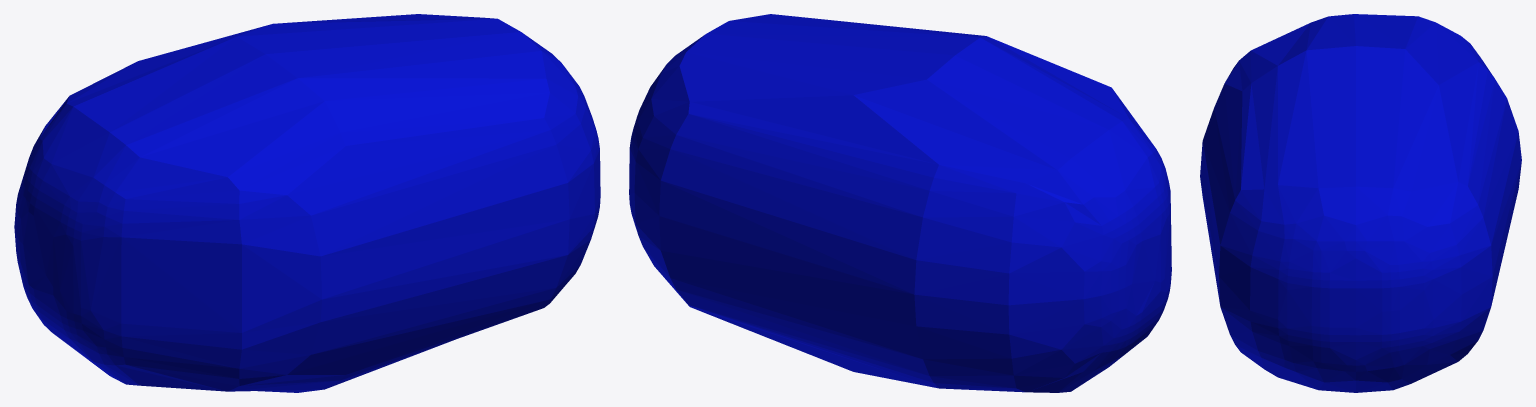
File: COL_hollie_real.009.dae
3 renders of one model, left to right at view 1: azimuth 30°, elevation 25°; view 2: azimuth 150°, elevation 25°; view 3: azimuth 270°, elevation 25°, orthographic. The views are drawn at different scales.
Visible parts, largest first — view 1: COL_COL_COL_VIS_VIS_VIS_VIS_VIS_VIS_VIS_VIS_VIS_hollie_real_; view 2: COL_COL_COL_VIS_VIS_VIS_VIS_VIS_VIS_VIS_VIS_VIS_hollie_real_; view 3: COL_COL_COL_VIS_VIS_VIS_VIS_VIS_VIS_VIS_VIS_VIS_hollie_real_.
Boxes of the visible parts, x1,y1,x2,y2 form: COL_COL_COL_VIS_VIS_VIS_VIS_VIS_VIS_VIS_VIS_VIS_hollie_real_: (14,14,600,392); COL_COL_COL_VIS_VIS_VIS_VIS_VIS_VIS_VIS_VIS_VIS_hollie_real_: (629,14,1171,392); COL_COL_COL_VIS_VIS_VIS_VIS_VIS_VIS_VIS_VIS_VIS_hollie_real_: (1200,14,1521,392).
Bounding box in the file's own units: 0.1172 × 0.0735 × 0.0692.
